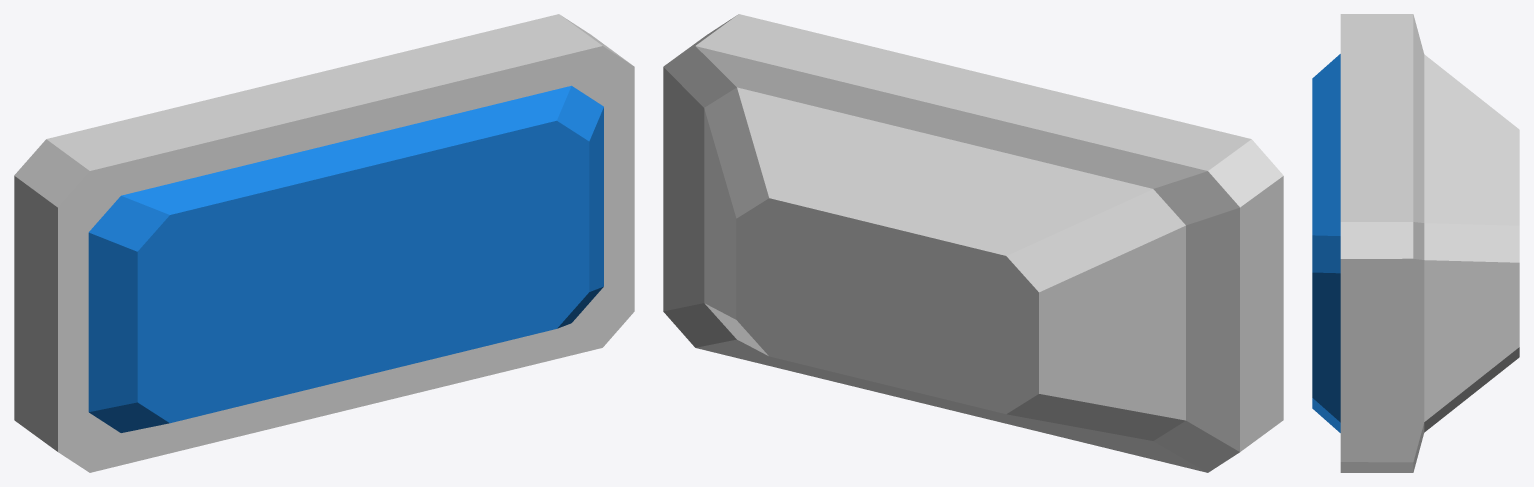
The model's file is Light.fbx.
3 renders of one model, left to right at view 1: azimuth 30°, elevation 25°; view 2: azimuth 150°, elevation 25°; view 3: azimuth 270°, elevation 25°, orthographic. The views are drawn at different scales.
Parts seen in each view (by area): view 1: Cube.003; view 2: Cube.003; view 3: Cube.003.
Boxes of the visible parts, x1,y1,x2,y2 form: Cube.003: (14, 14, 634, 472); Cube.003: (663, 14, 1283, 472); Cube.003: (1312, 14, 1519, 472).
Size of the model in its own units: 400 by 200 by 150.
